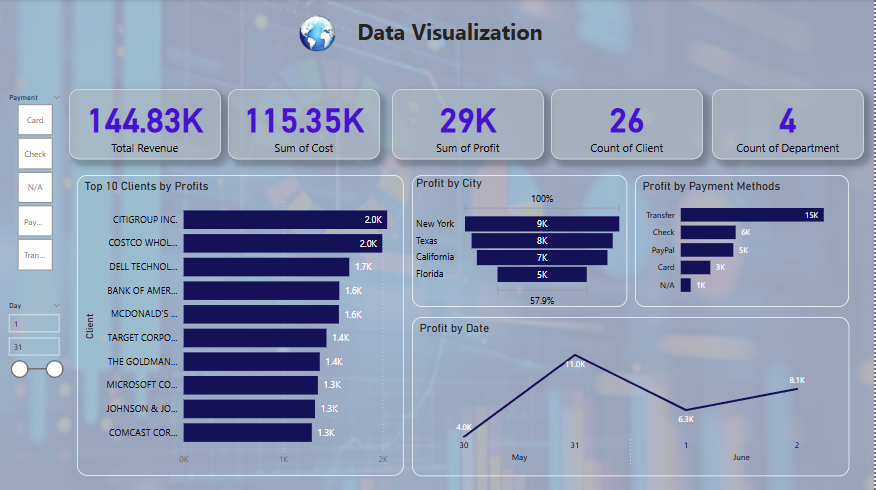

This screenshot's page, from the dashboard's own definition file:
{"tool":"powerbi","page":{"name":"Analysis","canvas":[1280,720],"ordinal":0},"visuals":[{"type":"textbox","box":[494.6,20.5,327.8,60],"z":0},{"type":"card","fields":{"Values":["Table1.Total Revenue"]},"box":[100.9,132.3,221.6,102.5],"z":1000},{"type":"card","fields":{"Values":["Sum(Table1.Cost)"]},"box":[334.1,132.3,221.6,102.5],"z":2000},{"type":"card","fields":{"Values":["Sum(Table1.Profit)"]},"box":[573.9,132.3,221.6,102.5],"z":3000},{"type":"card","fields":{"Values":["Count(Table1.Client)"]},"box":[807,132.3,221.6,102.5],"z":4000},{"type":"card","fields":{"Values":["Count(Table1.Department)"]},"box":[1041.9,132.3,221.6,102.5],"z":5000},{"type":"barChart","title":"Top 10 Clients by Profits","fields":{"Category":["Table1.Client"],"Y":["Sum(Table1.Profit)"]},"box":[112.5,258,477.9,439.9],"z":6000},{"type":"lineChart","title":"Profit by Date","fields":{"Y":["Sum(Table1.Profit)"],"Category":["Table1.Date.Variation.Date Hierarchy.Month","Table1.Date.Variation.Date Hierarchy.Day"]},"box":[602.9,465.4,639.5,232.7],"z":7000},{"type":"barChart","title":"Profit by Payment Methods","fields":{"Category":["Table1.Payment"],"Y":["Sum(Table1.Profit)"]},"box":[929.3,257.6,313.2,193.2],"z":8000},{"type":"slicer","fields":{"Values":["Table1.Payment"]},"box":[0,132.5,100.8,270.7],"z":9000},{"type":"slicer","fields":{"Values":["Table1.Date.Variation.Date Hierarchy.Day"]},"box":[0,437.8,100.8,135.4],"z":10000},{"type":"image","box":[417.1,2.9,95.1,95.1],"z":11000},{"type":"funnel","title":"Profit by City","fields":{"Category":["Table1.City"],"Y":["Sum(Table1.Profit)"]},"box":[602.9,257.6,314.6,193.2],"z":12000}]}

Visuals, with their boxes in screenshot pixels (x1, y1, x2, y2), scaled from the page's 1280x720 canvas onto the 876x490 screenshot:
textbox: (338,14,563,55)
card - Table1.Total Revenue: (69,90,221,160)
card - Sum(Table1.Cost): (229,90,380,160)
card - Sum(Table1.Profit): (393,90,544,160)
card - Count(Table1.Client): (552,90,704,160)
card - Count(Table1.Department): (713,90,865,160)
"Top 10 Clients by Profits" barChart: (77,176,404,475)
"Profit by Date" lineChart: (413,317,850,475)
"Profit by Payment Methods" barChart: (636,175,850,307)
slicer - Table1.Payment: (0,90,69,274)
slicer - Table1.Date.Variation.Date Hierarchy.Day: (0,298,69,390)
image: (285,2,351,67)
"Profit by City" funnel: (413,175,628,307)
